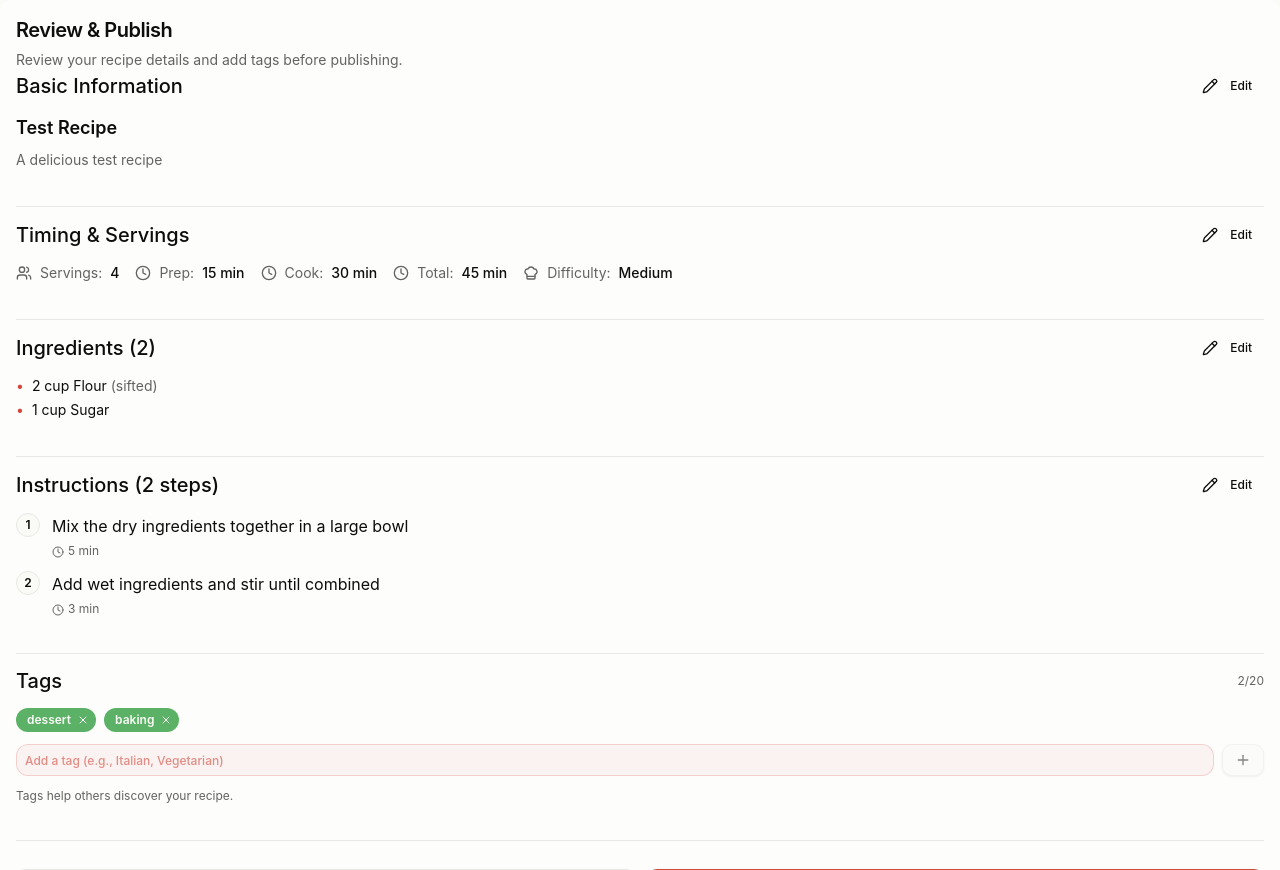
Test case: ReviewStep › Duplicate tag handling › should clear error when input changes
Type "dessert" into the field with placeholder "Add a tag (e.g., Italian, Vegetarian)" at (615, 760), box [16,744,1214,776]
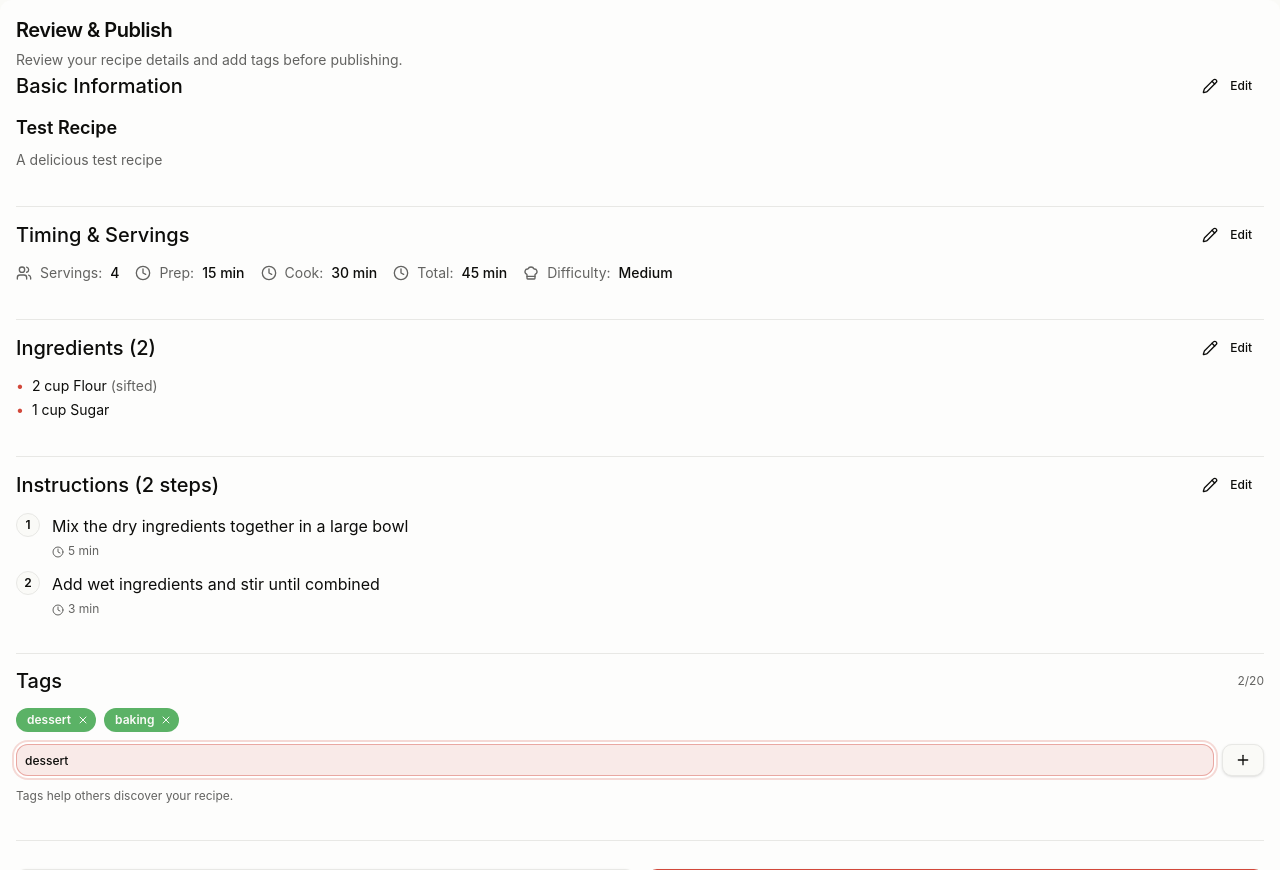
Click the button named "Add tag" at (1243, 760), box [1222,744,1264,776]
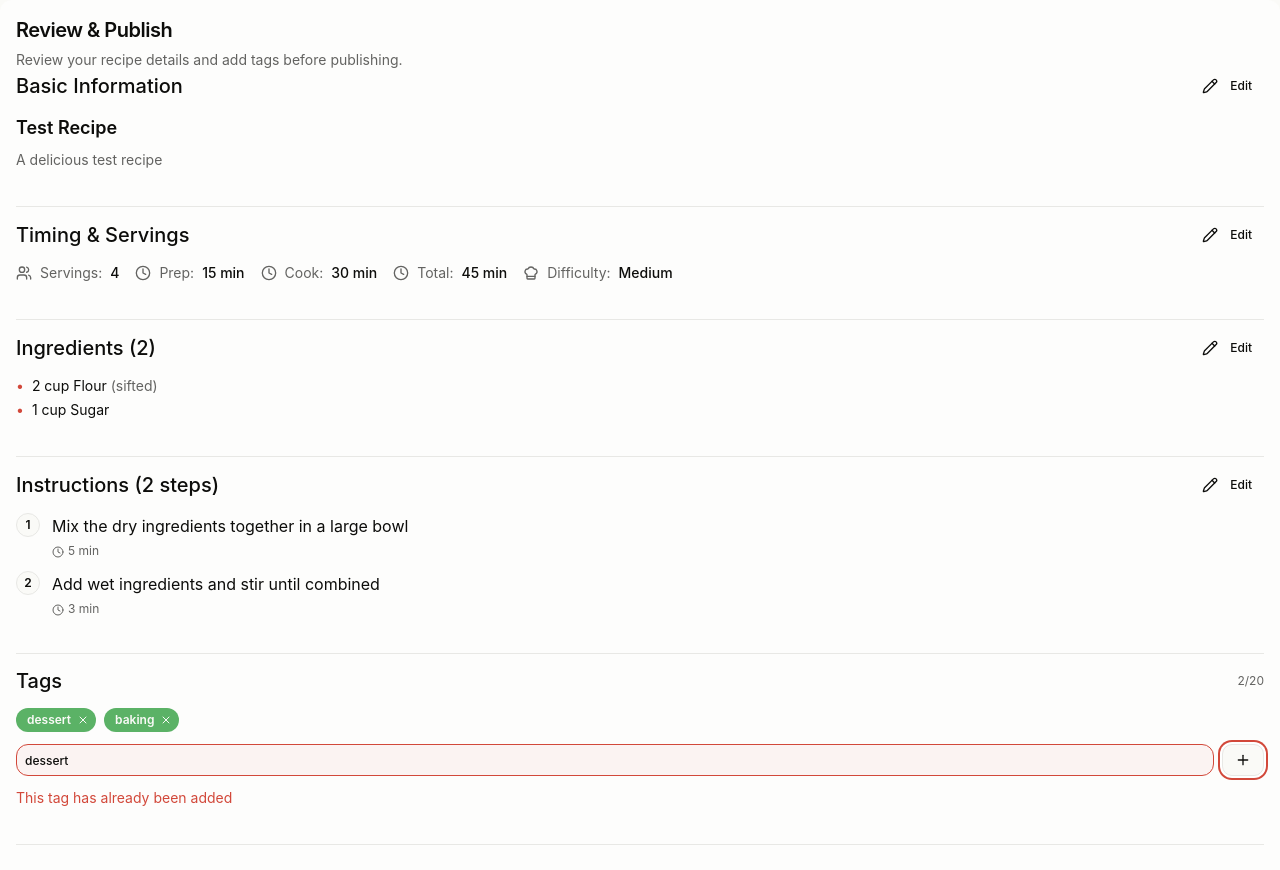
Expected: the text "This tag has already been added" is shown, [16,789,232,806]
# Type something new
Type "s" into the field with placeholder "Add a tag (e.g., Italian, Vegetarian)" at (615, 760), box [16,744,1214,776]
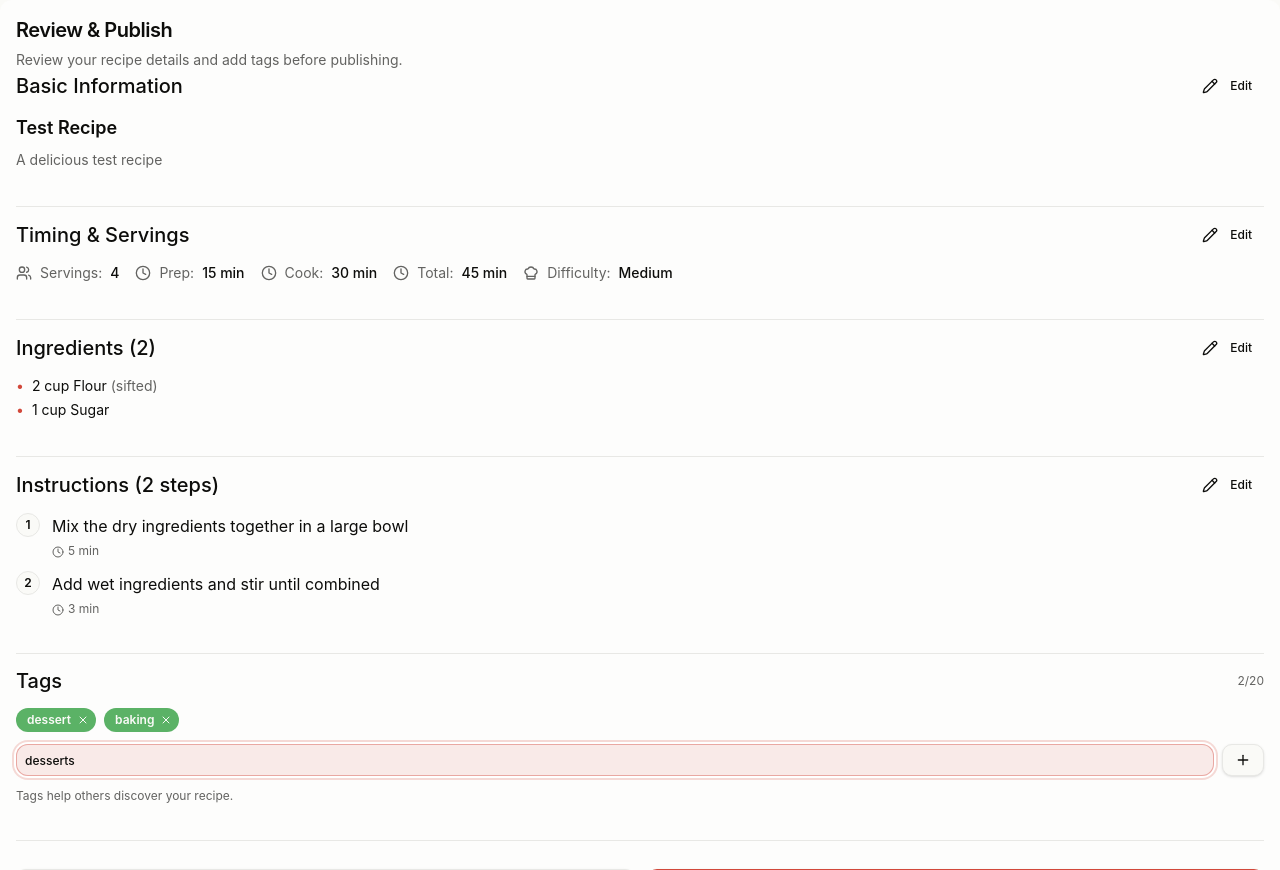
Expected: the text "This tag has already been added" is gone
